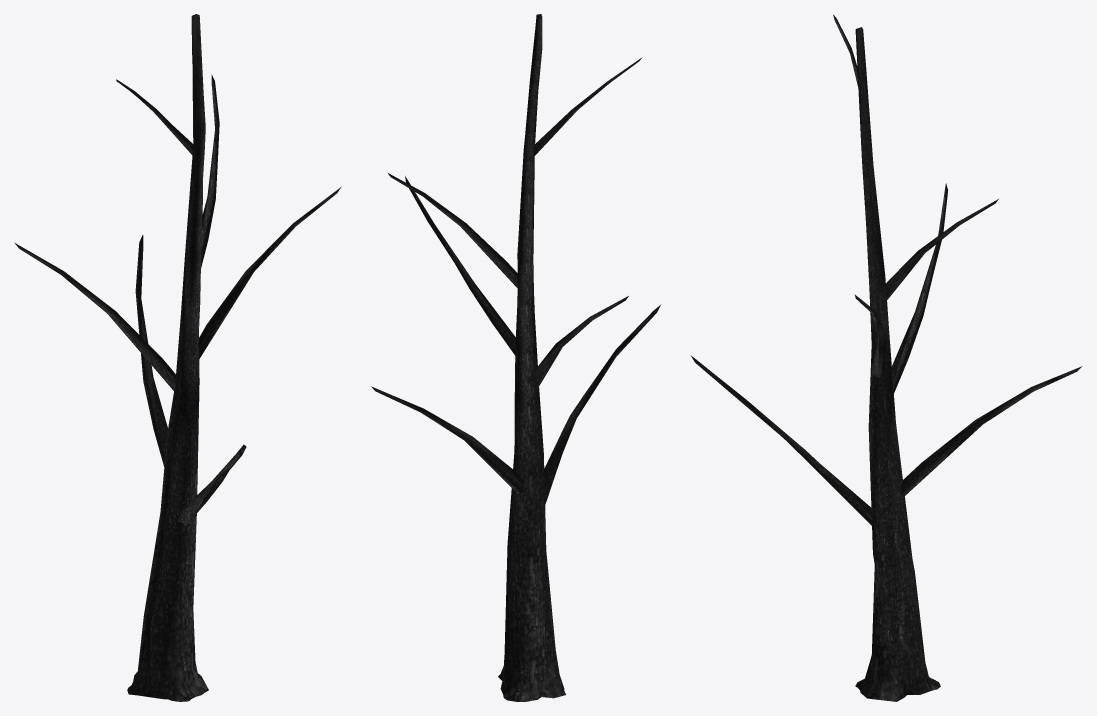
File: tree_8.glb
3 renders of one model, left to right at view 1: azimuth 30°, elevation 25°; view 2: azimuth 150°, elevation 25°; view 3: azimuth 270°, elevation 25°, orthographic. The views are drawn at different scales.
Parts seen in each view (by area): view 1: tree_8; view 2: tree_8; view 3: tree_8.
Boxes of the visible parts, box(x1,y1,x2,y2) form: tree_8: box(14, 14, 341, 701); tree_8: box(371, 14, 661, 701); tree_8: box(691, 14, 1082, 701).
Bounding box in the file's own units: 3.41 × 7.91 × 4.25.
Materials: 1 (1 with a texture image).
